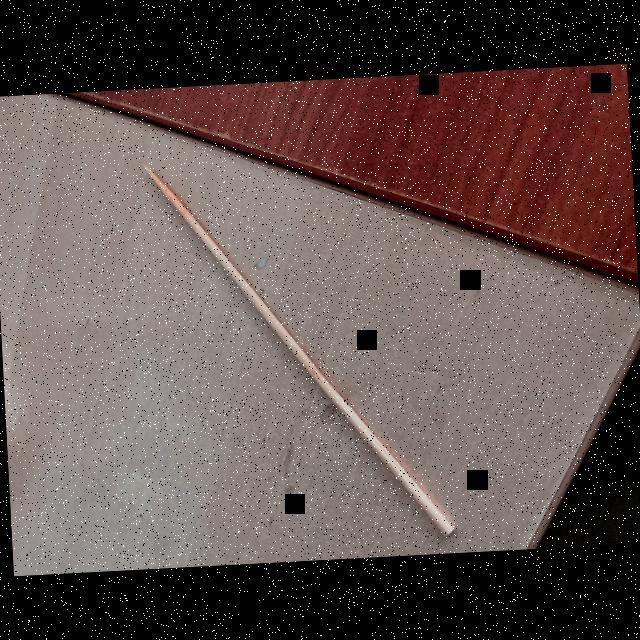stick: (135, 142, 456, 550)
